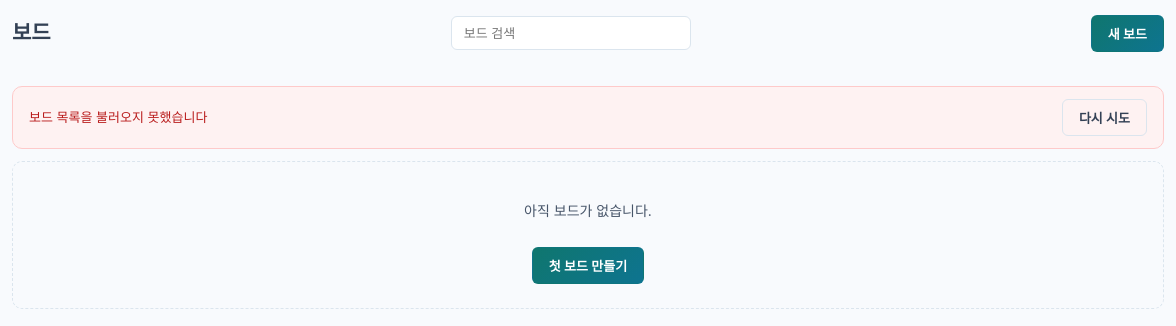
Test case: BoardsListPage › shows an error with a retry button when the list fails to load, and recovers on retry
The width and height of the screenshot is (1176, 326).
Expected: the message "보드 목록을 불러오지 못했습니다 다시 시도" is shown, [12,86,1164,149]
What coordinates should you click on to do the following:
click the button "다시 시도"
I would click on:
 (1104, 118)
Its box is [1062,99,1147,136].
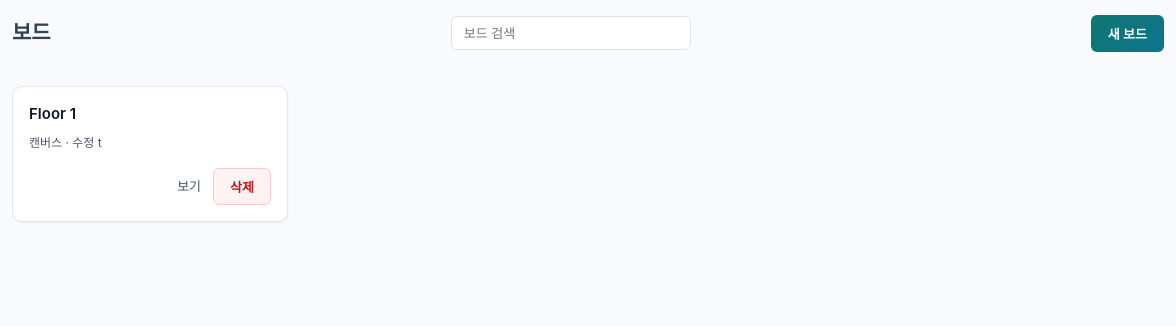
Now the link "Floor 1" is shown, box [29,104,76,123]
Now the message "보드 목록을 불러오지 못했습니다 다시 시도" is gone
